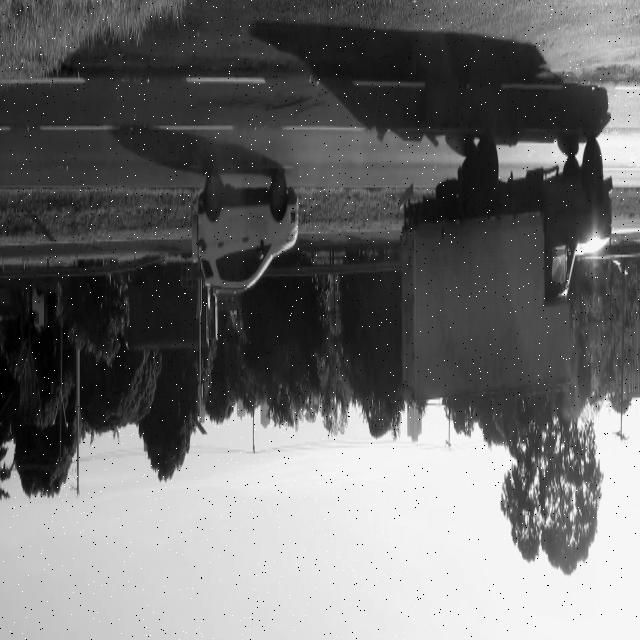-axle: (582, 136, 608, 208), (476, 142, 502, 200)
